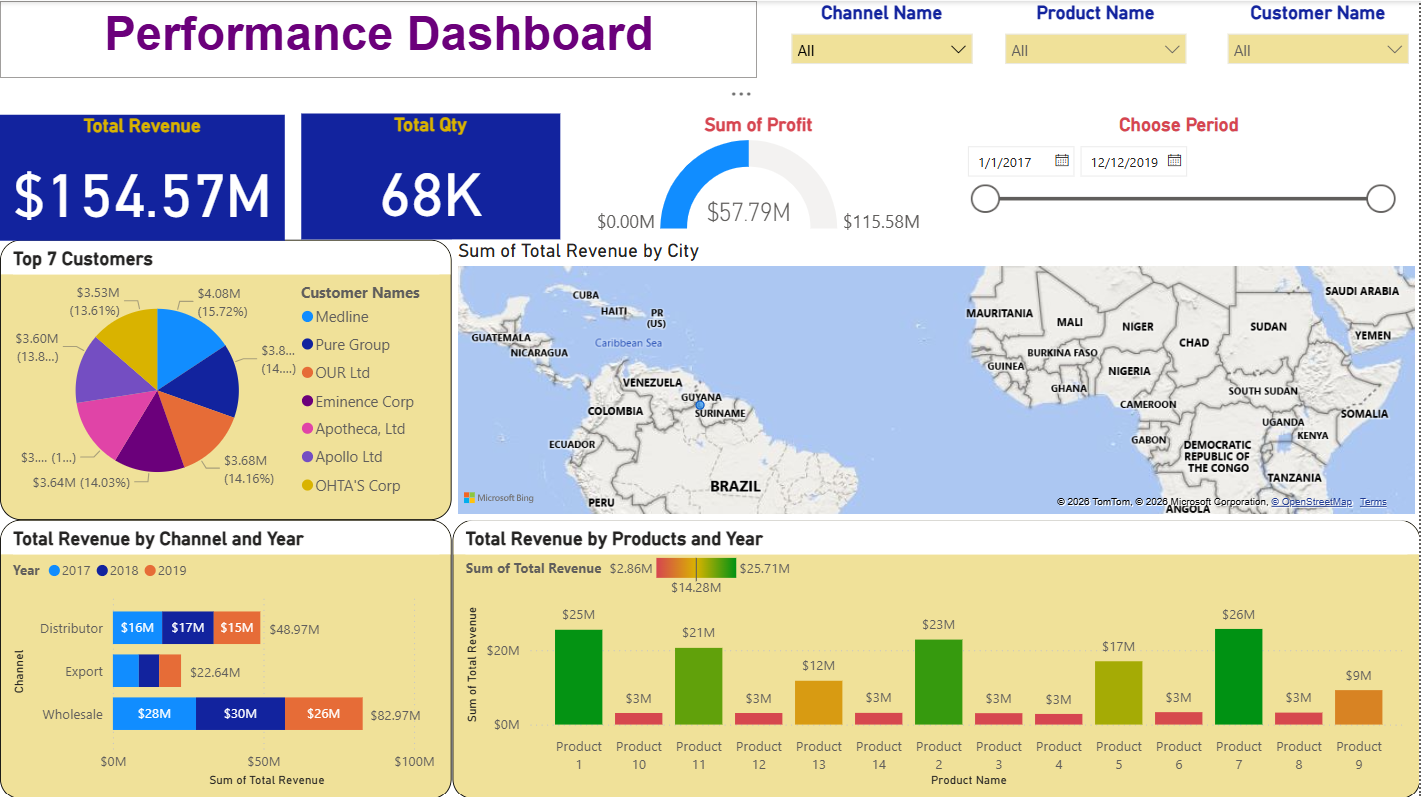

The dashboard page shown, as its layout file describes it:
{"tool":"powerbi","page":{"name":"Page 1","canvas":[1280,720],"ordinal":0},"visuals":[{"type":"barChart","title":"Total Revenue by Channel and Year","fields":{"Category":["Sales_Data.Channel"],"Y":["Sum(Sales_Data.Total Revenue)"],"Series":["Sales_Data.OrderDate.Variation.Date Hierarchy.Year"]},"box":[0,467.9,407.5,252.5],"z":0},{"type":"columnChart","title":"Total Revenue by Products and Year","fields":{"Category":["Products_Data.Product Name"],"Y":["Sum(Sales_Data.Total Revenue)"]},"box":[407.5,467.9,872.7,252.5],"z":1000},{"type":"pieChart","title":"Top 7 Customers","fields":{"Category":["Customer_Data.Customer Names"],"Y":["Sum(Sales_Data.Total Revenue)"]},"box":[0,215.4,407.5,252.5],"z":2000},{"type":"card","title":"Total Revenue","fields":{"Values":["Sum(Sales_Data.Total Revenue)"]},"box":[0,102.9,256.6,113.9],"z":3000},{"type":"card","title":"Total Qty","fields":{"Values":["Sum(Sales_Data.Order Quantity)"]},"box":[271.7,101.5,233.3,113.9],"z":4000},{"type":"gauge","fields":{"Y":["Sum(Sales_Data.Profit)"]},"box":[524.2,101.5,319.7,113.9],"z":5000},{"type":"map","fields":{"Size":["Sum(Sales_Data.Total Revenue)"],"Category":["Regions_Table.City"]},"box":[407.5,215.4,872.7,252.5],"z":6000},{"type":"slicer","title":"Choose Period","fields":{"Values":["Sales_Data.OrderDate"]},"box":[860.4,101.5,406.2,113.9],"z":7000},{"type":"slicer","title":"Customer Name","fields":{"Values":["Customer_Data.Customer Names"]},"box":[1096.9,0,183.4,69.7],"z":8000},{"type":"slicer","title":"Product Name","fields":{"Values":["Products_Data.Product Name"]},"box":[896.3,0,183.4,69.7],"z":9000},{"type":"slicer","title":"Channel Name","fields":{"Values":["Sales_Data.Channel"]},"box":[703.1,0,183.4,69.7],"z":10000},{"type":"textbox","box":[0,0,683.6,69.7],"z":11000}]}

Visuals, with their boxes in screenshot pixels (x1, y1, x2, y2), scaled from the page's 1280x720 canvas onto the 1421x797 screenshot:
"Total Revenue by Channel and Year" barChart: 0 518 452 796
"Total Revenue by Products and Year" columnChart: 452 518 1420 796
"Top 7 Customers" pieChart: 0 238 452 518
"Total Revenue" card: 0 114 285 240
"Total Qty" card: 302 112 561 238
gauge - Sum(Sales_Data.Profit): 582 112 937 238
map - Sum(Sales_Data.Total Revenue) x Regions_Table.City: 452 238 1420 518
"Choose Period" slicer: 955 112 1406 238
"Customer Name" slicer: 1218 0 1420 77
"Product Name" slicer: 995 0 1199 77
"Channel Name" slicer: 781 0 984 77
textbox: 0 0 759 77
